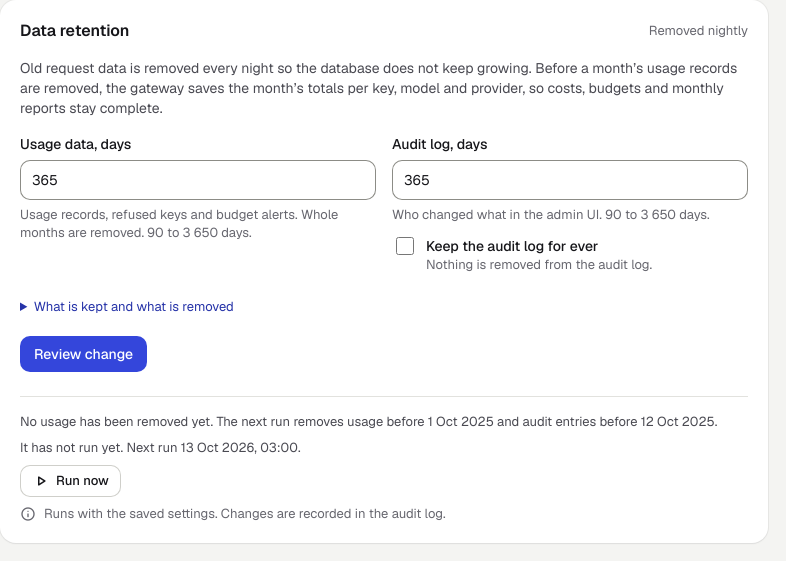
Scenario: RetentionCard › starts a run and shows it as running
The image size is (786, 561).
Click the button "Run now" at (70, 481), box x1=20 y1=465 x2=121 y2=497
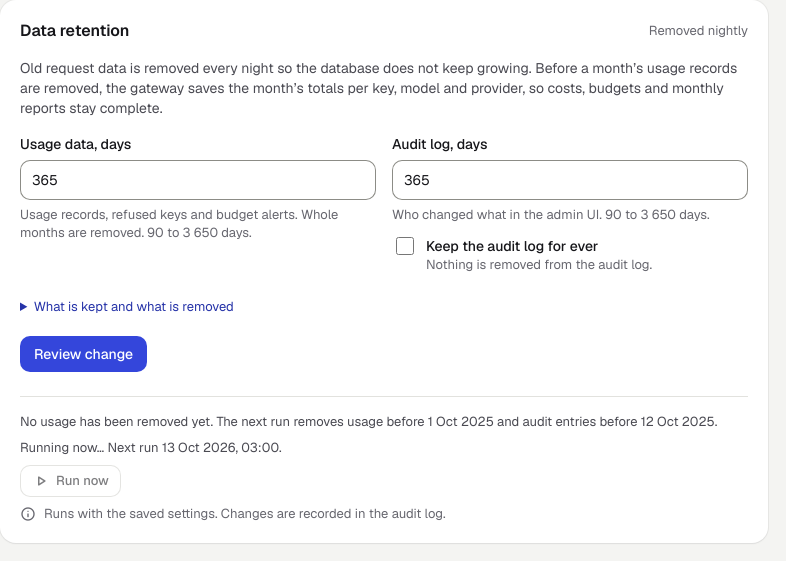
Check: the text "Running now" is shown, box x1=20 y1=439 x2=104 y2=456
